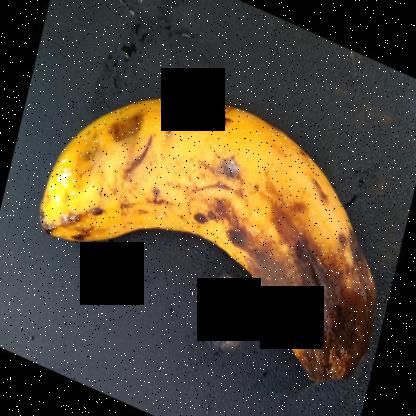rotten: (34, 63, 391, 392)
